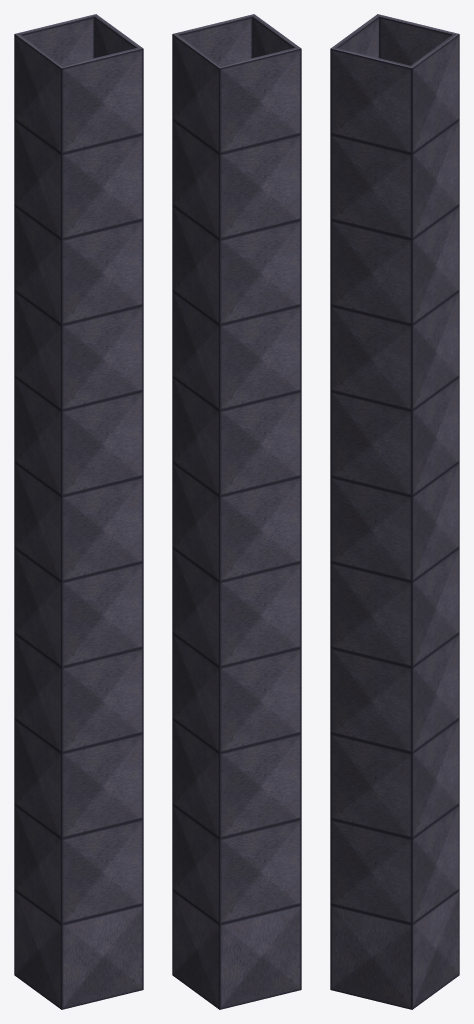
The model's file is VentLoading.glb.
The picture shows the model from 3 angles, left to right: view 1: azimuth 30°, elevation 25°; view 2: azimuth 210°, elevation 25°; view 3: azimuth 330°, elevation 25°; orthographic projection.
Visible parts, largest first — view 1: Vent; view 2: Vent; view 3: Vent.
Boxes of the visible parts, box(x1,y1,x2,y2) form: Vent: box(14, 14, 143, 1009); Vent: box(172, 14, 301, 1009); Vent: box(330, 14, 459, 1009).
Size of what is drawn, in the model's own units: 2 by 22 by 2.
Materials: 1 (1 with a texture image).
